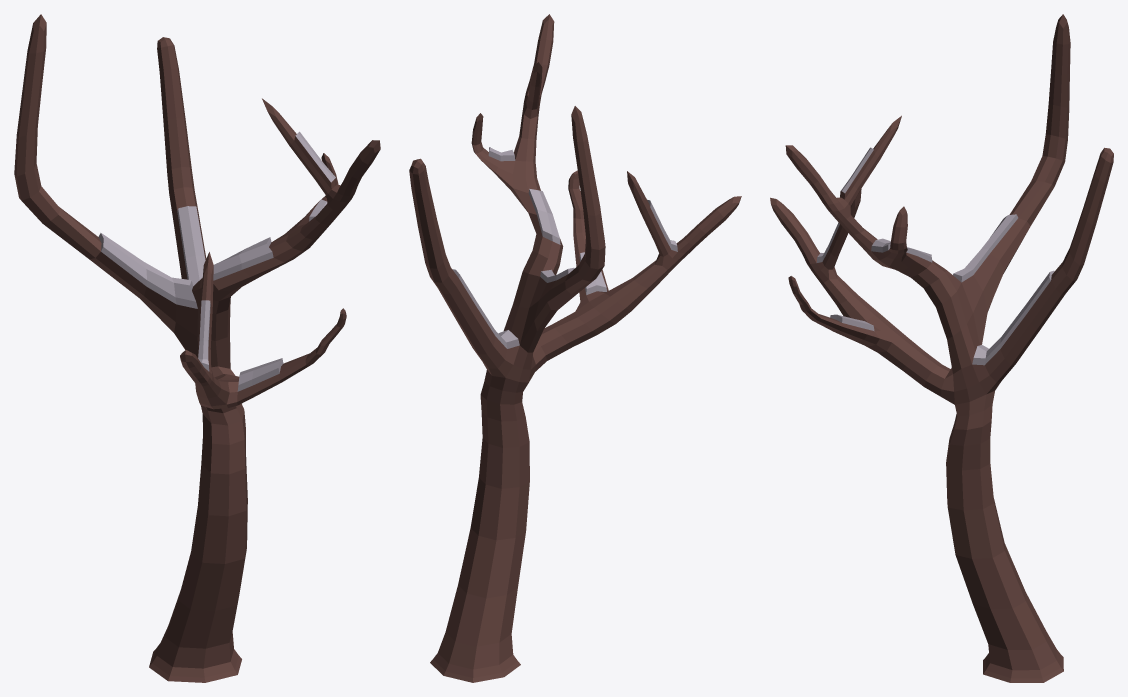
File: CommonTree_Dead_Snow_5.glb
The picture shows the model from 3 angles, left to right: view 1: azimuth 30°, elevation 25°; view 2: azimuth 150°, elevation 25°; view 3: azimuth 270°, elevation 25°; orthographic projection. The views are drawn at different scales.
Parts seen in each view (by area): view 1: CommonTree_Dead_Snow_5_Cube.001; view 2: CommonTree_Dead_Snow_5_Cube.001; view 3: CommonTree_Dead_Snow_5_Cube.001.
Boxes of the visible parts, x1,y1,x2,y2 form: CommonTree_Dead_Snow_5_Cube.001: (14,14,380,682); CommonTree_Dead_Snow_5_Cube.001: (409,14,741,682); CommonTree_Dead_Snow_5_Cube.001: (770,14,1113,682).
Bounding box in the file's own units: 0.8443 × 2.3 × 1.2.
